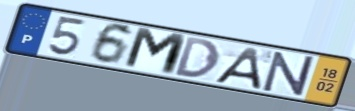5: (47, 14, 88, 57)
6: (86, 22, 137, 67)
A: (211, 46, 263, 91)
D: (174, 35, 222, 80)
M: (121, 25, 191, 79)
N: (261, 50, 317, 98)
